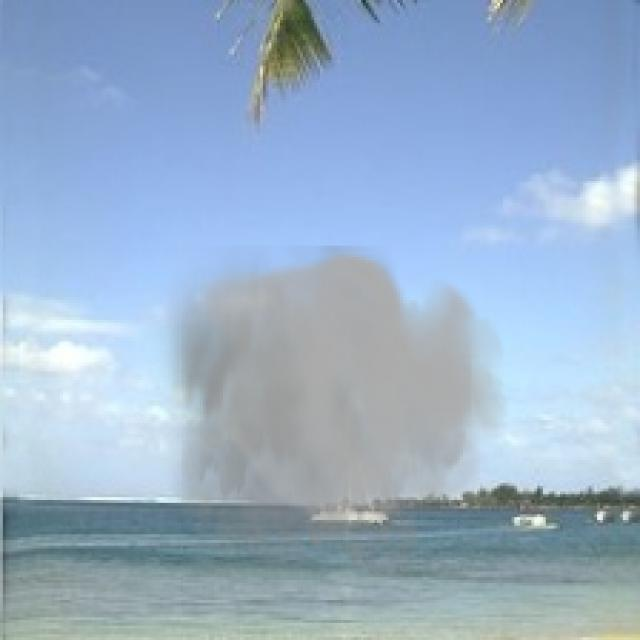Smoke: (152, 246, 508, 614)
